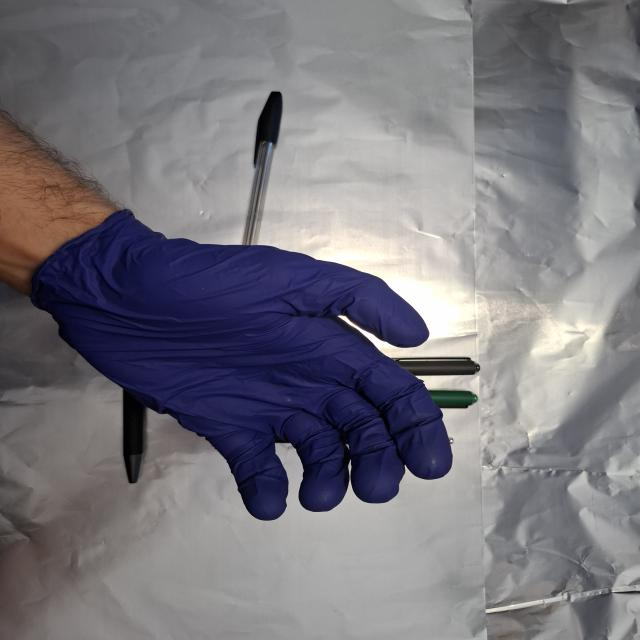glove_on: (26, 201, 461, 523)
